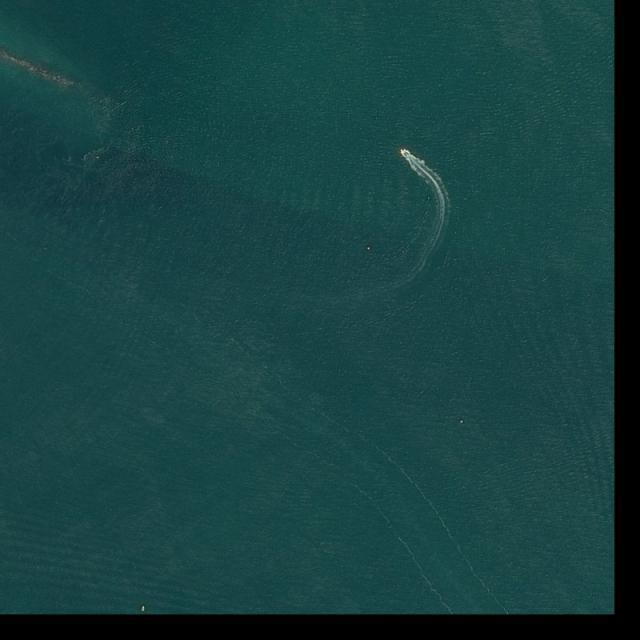ship: (399, 148, 406, 154)
